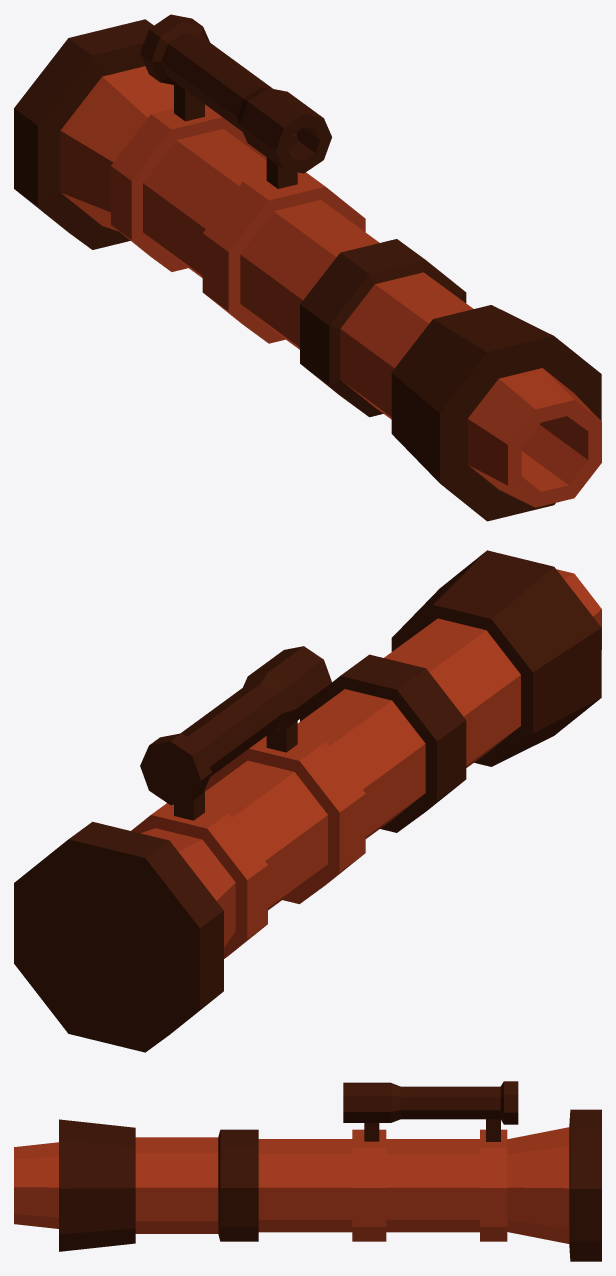
File: bazooka.obj
3 views of the same model, one above another, from view 1: azimuth 30°, elevation 25°; view 2: azimuth 150°, elevation 25°; view 3: azimuth 270°, elevation 25° (orthographic). The views are drawn at different scales.
Visible parts, largest first — view 1: bazooka.001; view 2: bazooka.001; view 3: bazooka.001.
Boxes of the visible parts, left/top/right/bottom form: bazooka.001: left=14, top=14, right=601, bottom=521; bazooka.001: left=14, top=550, right=601, bottom=1052; bazooka.001: left=14, top=1081, right=601, bottom=1261.
Bounding box in the file's own units: 2.49 × 3.27 × 10.39.
